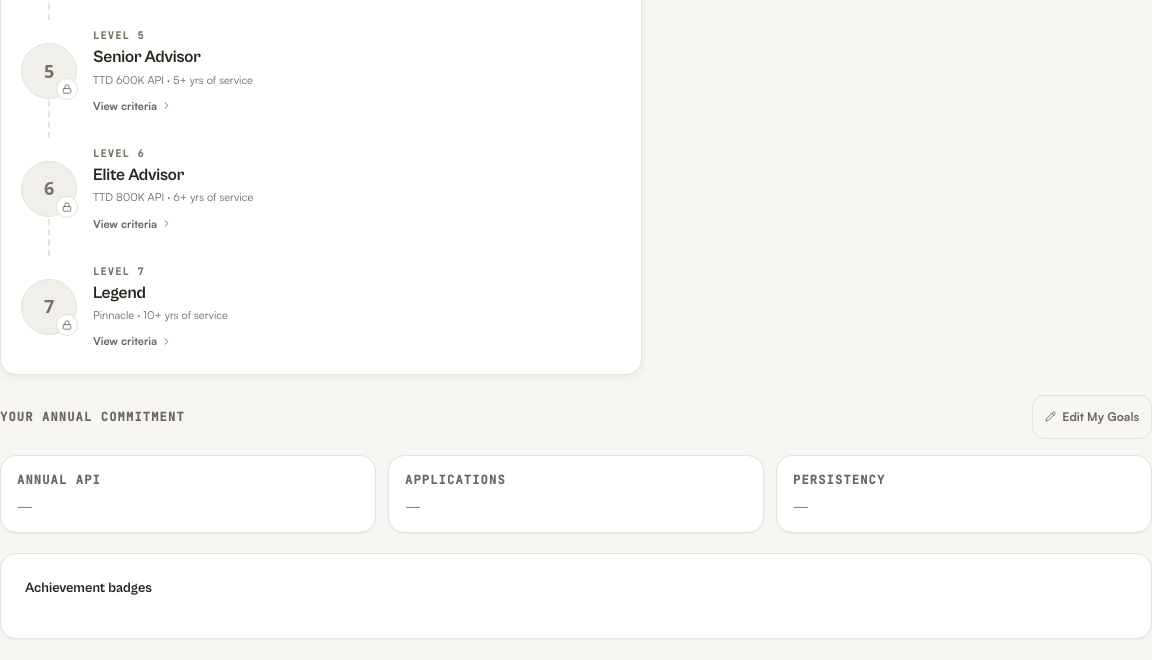
CareerPortal — editing-mode button tap targets (FU#2 P1-1) › Cancel button has h-11 class after entering edit mode
(page scrolled)
Click the button "Edit My Goals": click(1092, 417) [1032,395,1151,439]
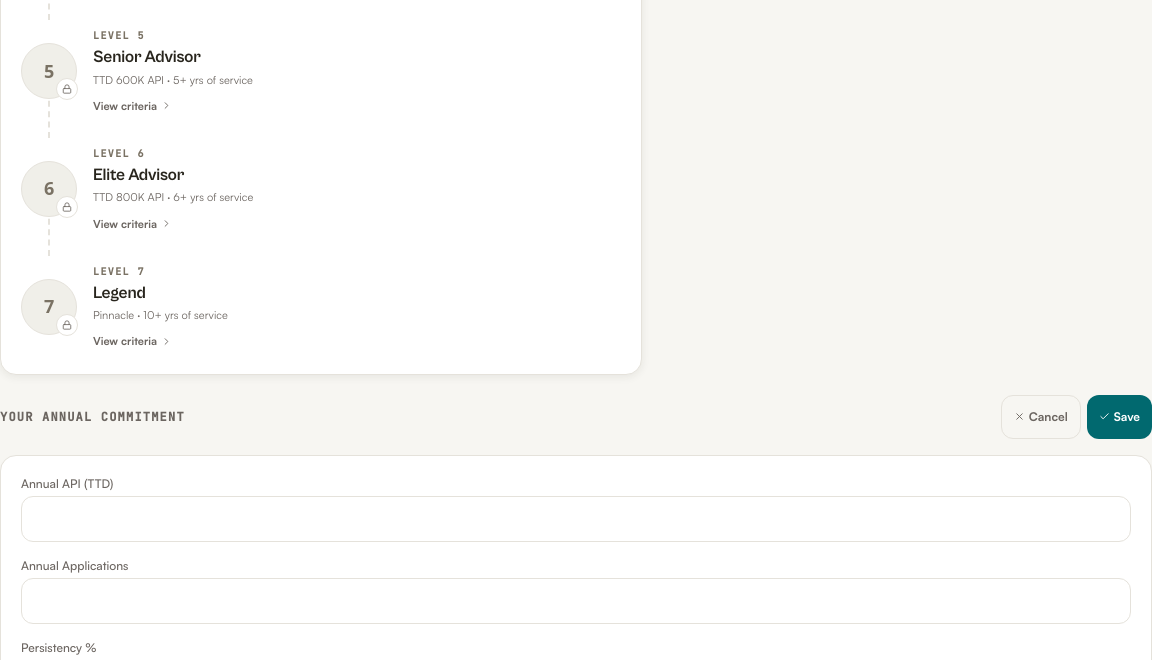
Check: the button "Cancel" is shown, box [1001,395,1081,439]
